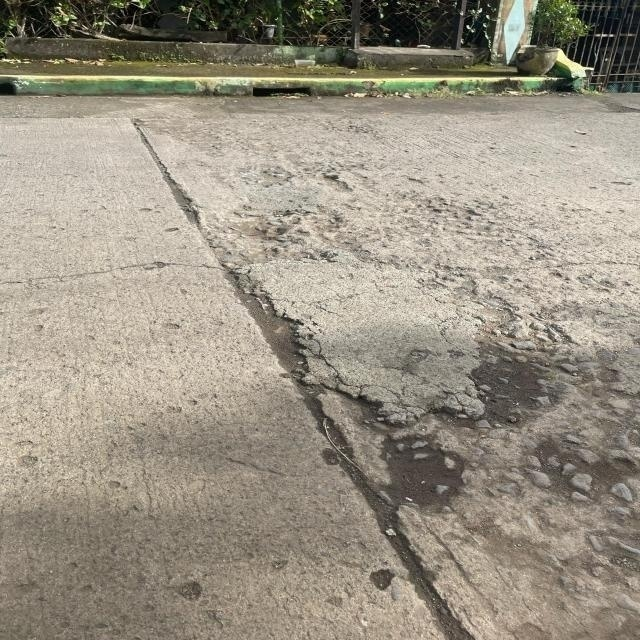pothole: (155, 174, 640, 556)
